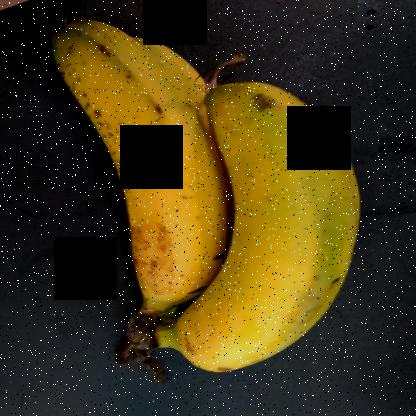freshripe: (182, 72, 372, 385)
ripe: (45, 18, 226, 316)
